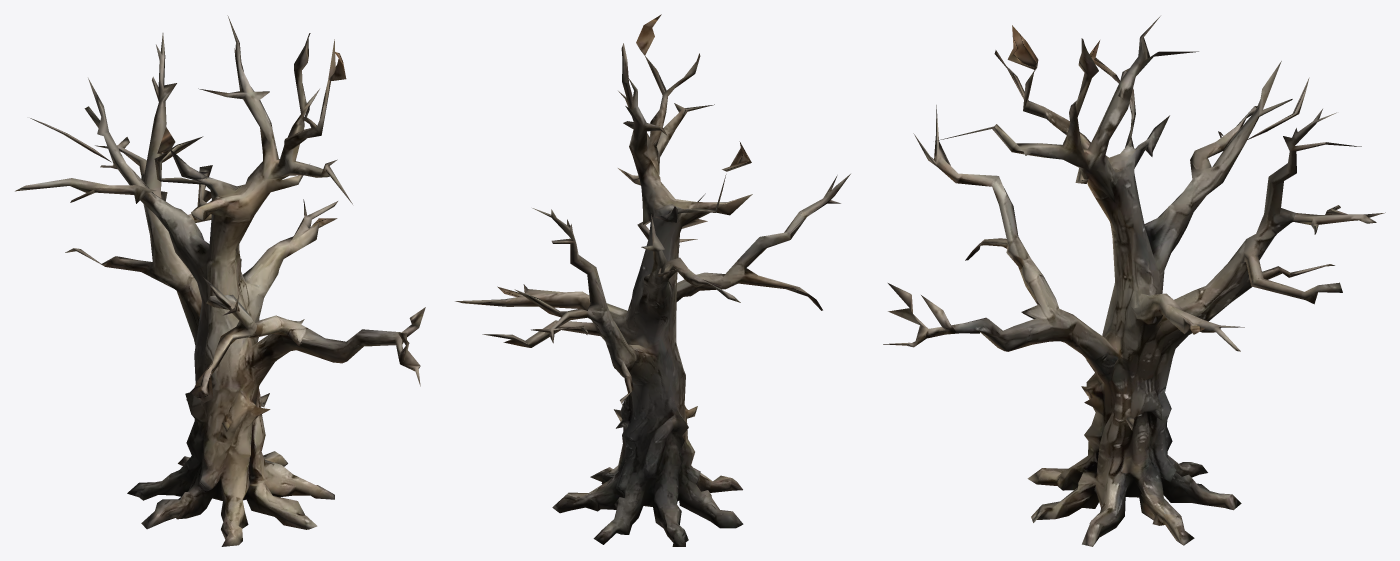
File: e_deadtree.glb
The picture shows the model from 3 angles, left to right: view 1: azimuth 30°, elevation 25°; view 2: azimuth 150°, elevation 25°; view 3: azimuth 270°, elevation 25°; orthographic projection. The views are drawn at different scales.
Parts seen in each view (by area): view 1: tripo_node_bf12929f-814e-4e58-9902-03f419c26a99; view 2: tripo_node_bf12929f-814e-4e58-9902-03f419c26a99; view 3: tripo_node_bf12929f-814e-4e58-9902-03f419c26a99.
Boxes of the visible parts, box(x1,y1,x2,y2) form: tripo_node_bf12929f-814e-4e58-9902-03f419c26a99: box(15, 15, 425, 546); tripo_node_bf12929f-814e-4e58-9902-03f419c26a99: box(455, 14, 850, 546); tripo_node_bf12929f-814e-4e58-9902-03f419c26a99: box(883, 16, 1385, 546).
Size of the model in its own units: 0.6884 by 1 by 0.9115.
1 material, 1 textured.
